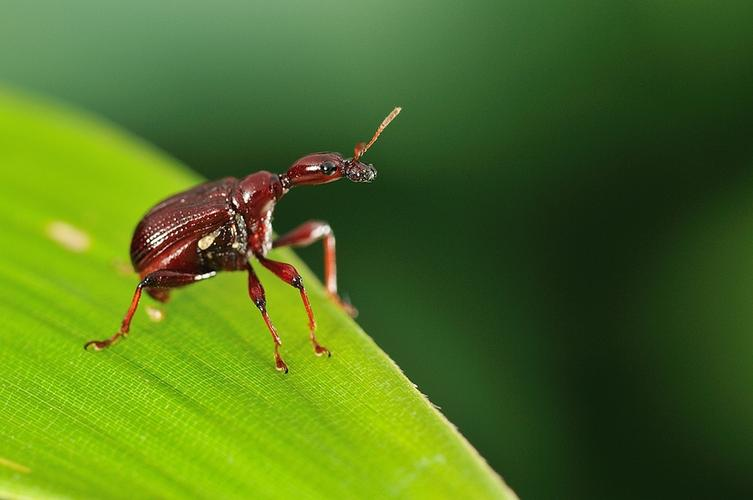Curculionidae: (83, 105, 402, 373)
